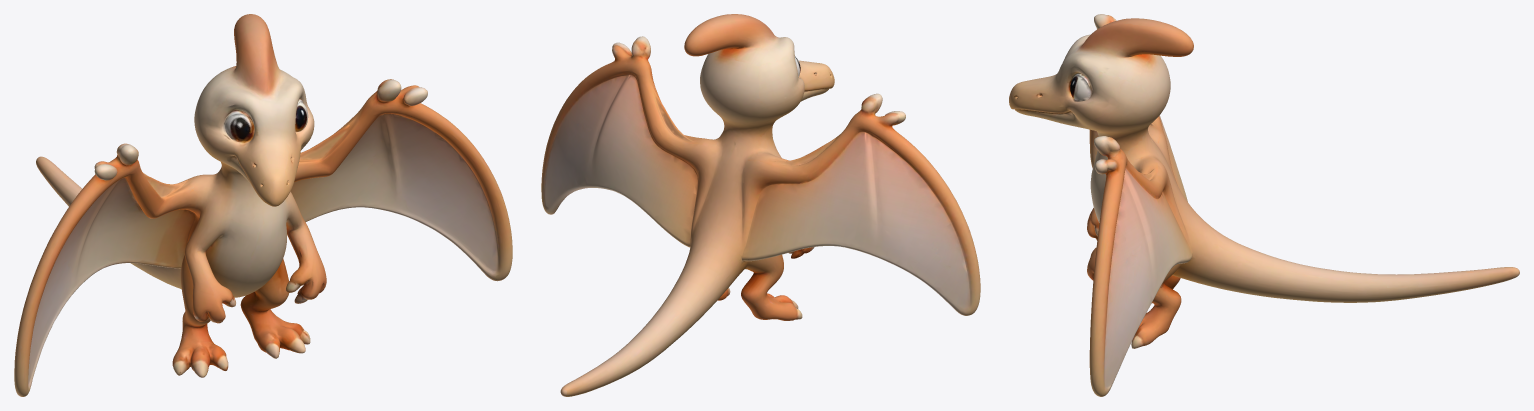
Rendered from ptero.glb.
The picture shows the model from 3 angles, left to right: view 1: azimuth 30°, elevation 25°; view 2: azimuth 150°, elevation 25°; view 3: azimuth 270°, elevation 25°; orthographic projection. The views are drawn at different scales.
Parts seen in each view (by area): view 1: node_0; view 2: node_0; view 3: node_0.
Boxes of the visible parts, x1=… form: node_0: x1=14, y1=14, x2=512, y2=396; node_0: x1=541, y1=14, x2=980, y2=396; node_0: x1=1009, y1=14, x2=1519, y2=396.
Size of the model in its own units: 0.9528 by 0.5991 by 0.9035.
Materials: 1 (1 with a texture image).
